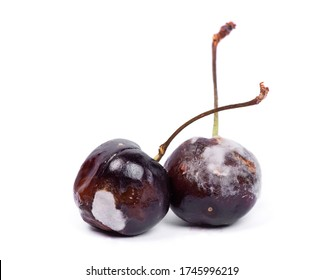cherry: (72, 138, 172, 238), (167, 136, 264, 229)
rotten: (182, 137, 262, 199), (87, 187, 131, 233)
